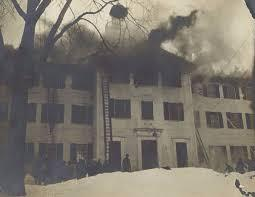smoke: (87, 3, 247, 73)
